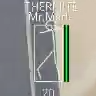hacks_1: (24, 1, 79, 96)
